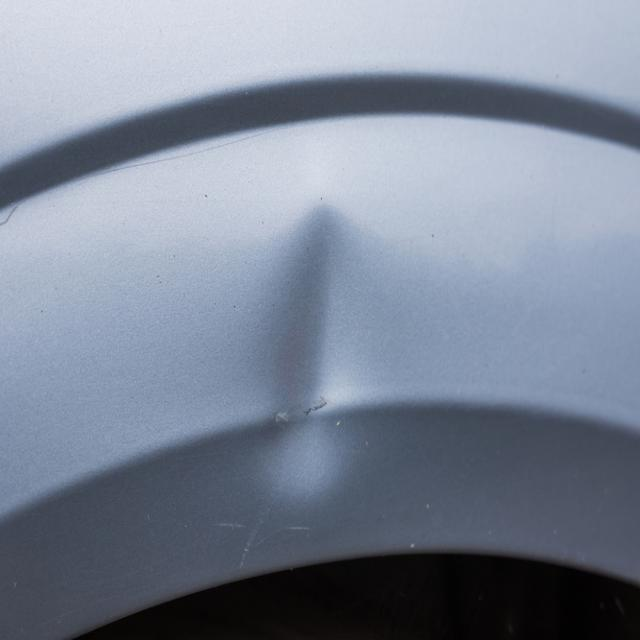dent: (253, 205, 388, 501)
